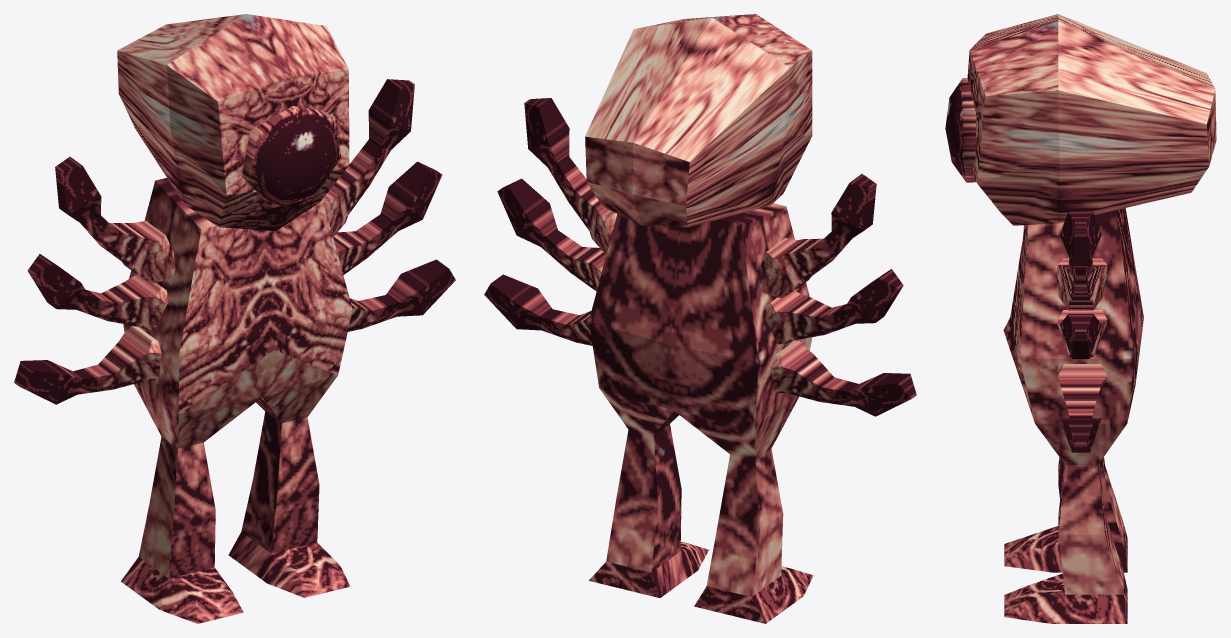
Rendered from Mother_01.fbx.
The picture shows the model from 3 angles, left to right: view 1: azimuth 30°, elevation 25°; view 2: azimuth 150°, elevation 25°; view 3: azimuth 270°, elevation 25°; orthographic projection. The views are drawn at different scales.
Parts seen in each view (by area): view 1: Plane.001, Sphere; view 2: Plane.001; view 3: Plane.001, Sphere.
Part boxes in pixels (<box>): Plane.001: <box>14,14,455,623</box>; Sphere: <box>241,106,341,207</box>; Plane.001: <box>484,14,916,623</box>; Plane.001: <box>967,14,1216,623</box>; Sphere: <box>945,78,976,182</box>.
Bounding box in the file's own units: 14.32 × 17.91 × 7.87.
1 material, 1 textured.
